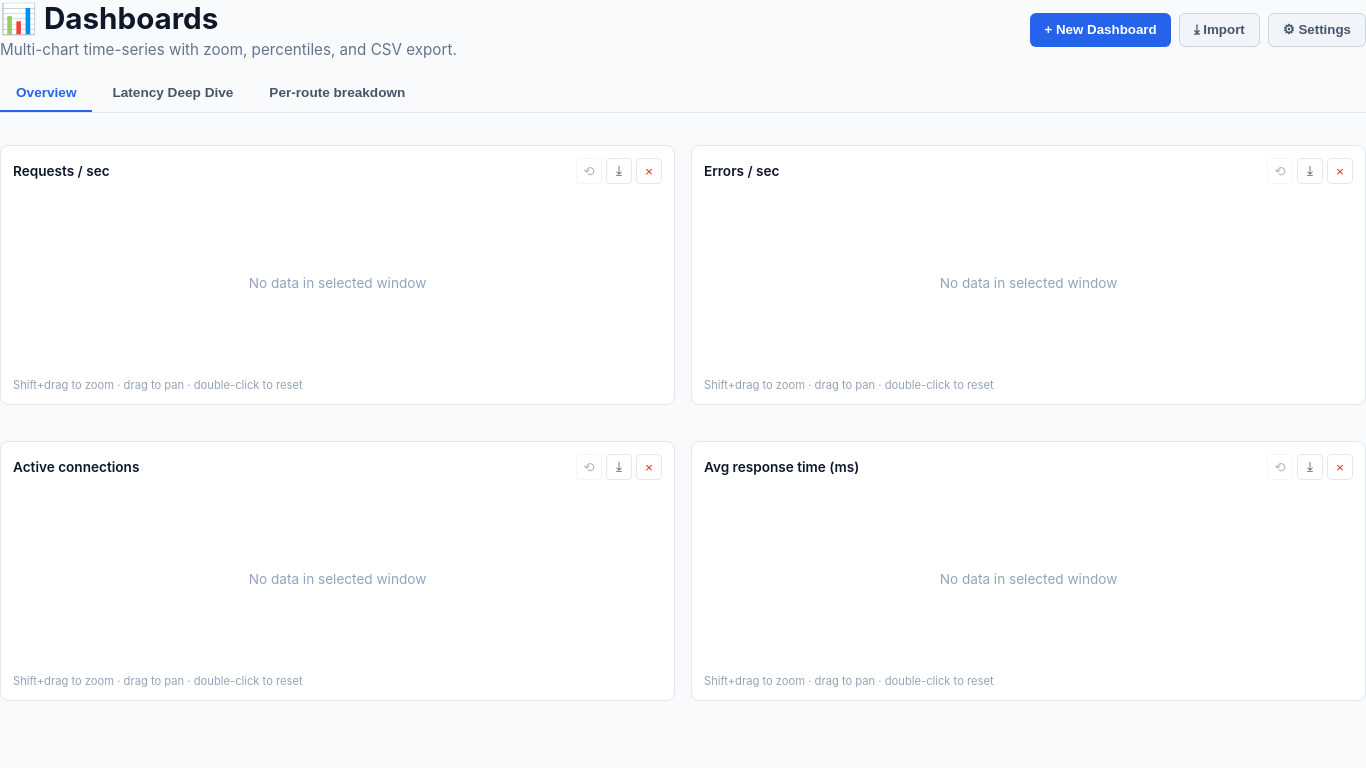
it: DashboardsView › opens settings modal when Settings clicked
The width and height of the screenshot is (1366, 768).
Click the button "⚙ Settings" at (1317, 30), box [1268,12,1365,46]
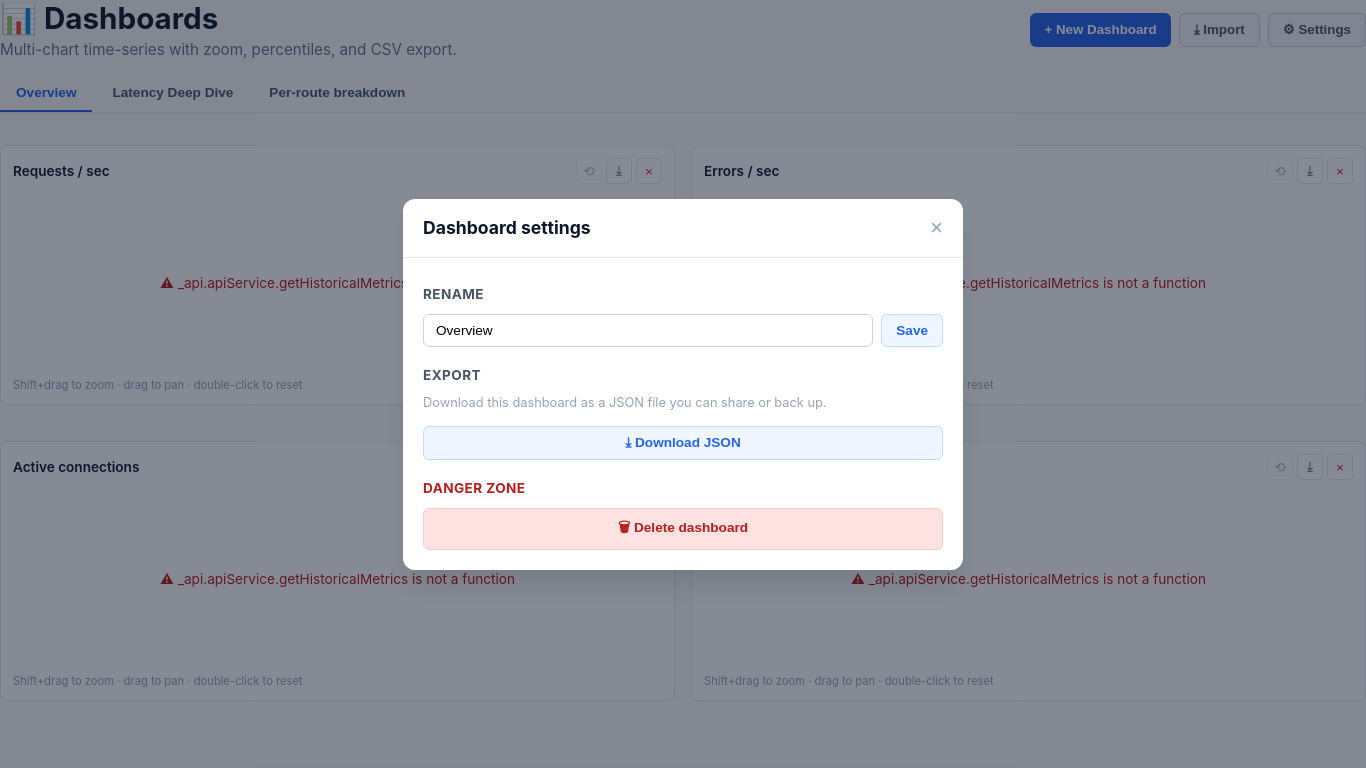
expect the element with class "settings-modal" is shown: met, box [403,198,963,570]
